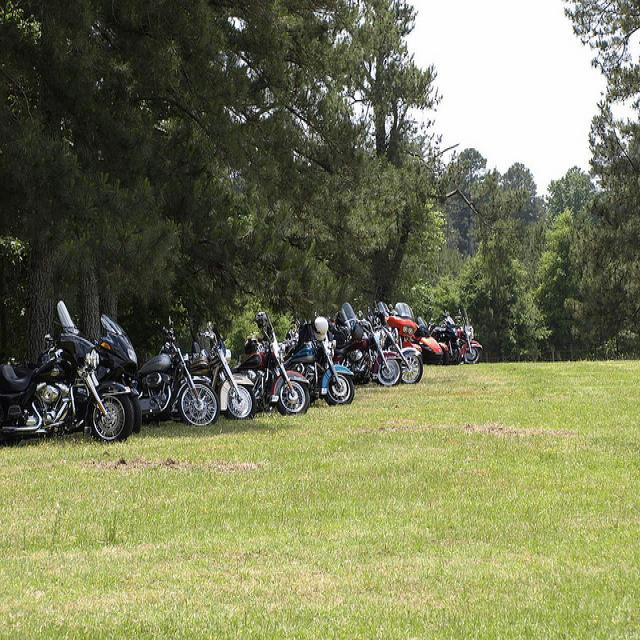motor: (0, 320, 134, 448), (137, 315, 220, 430), (230, 309, 312, 417), (88, 310, 144, 427), (190, 328, 256, 421), (282, 334, 356, 406), (332, 311, 402, 387), (373, 300, 424, 386), (409, 316, 445, 365), (389, 304, 421, 351), (433, 315, 462, 366), (456, 315, 483, 364)
